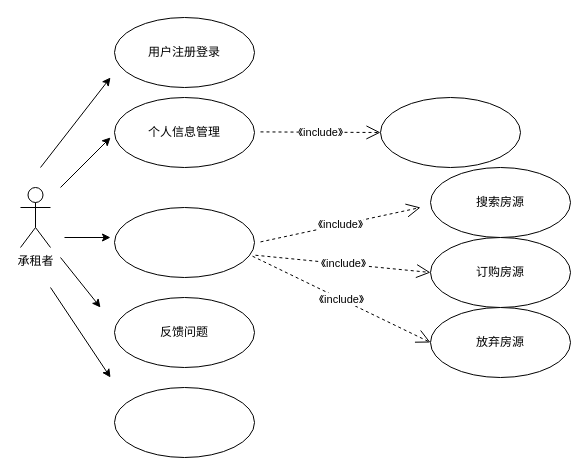
Image size: 588x475. Some labels were removed from this diagram. The centre of each missing label's shape, as x and y in pixels:
修改信息: [450,132]
房源管理: [184,242]
退出登录: [184,422]
